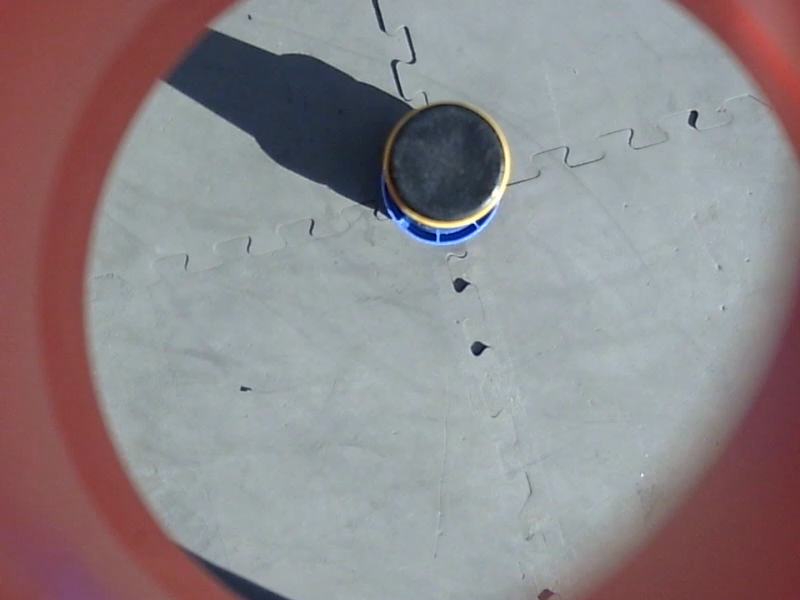tip: (376, 92, 522, 238)
